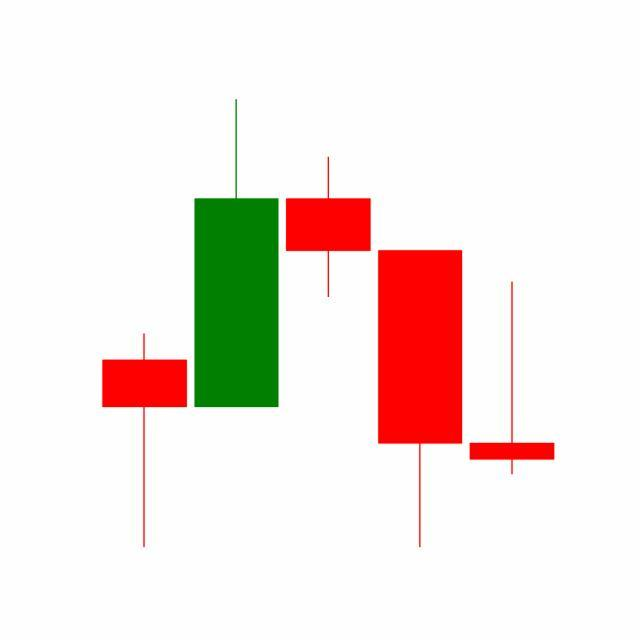Gravestone Doji: (466, 280, 559, 478)
